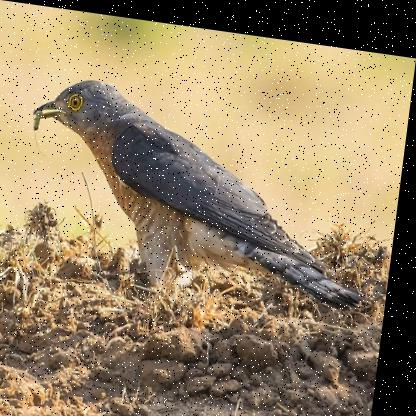Burung: (21, 71, 386, 304)
